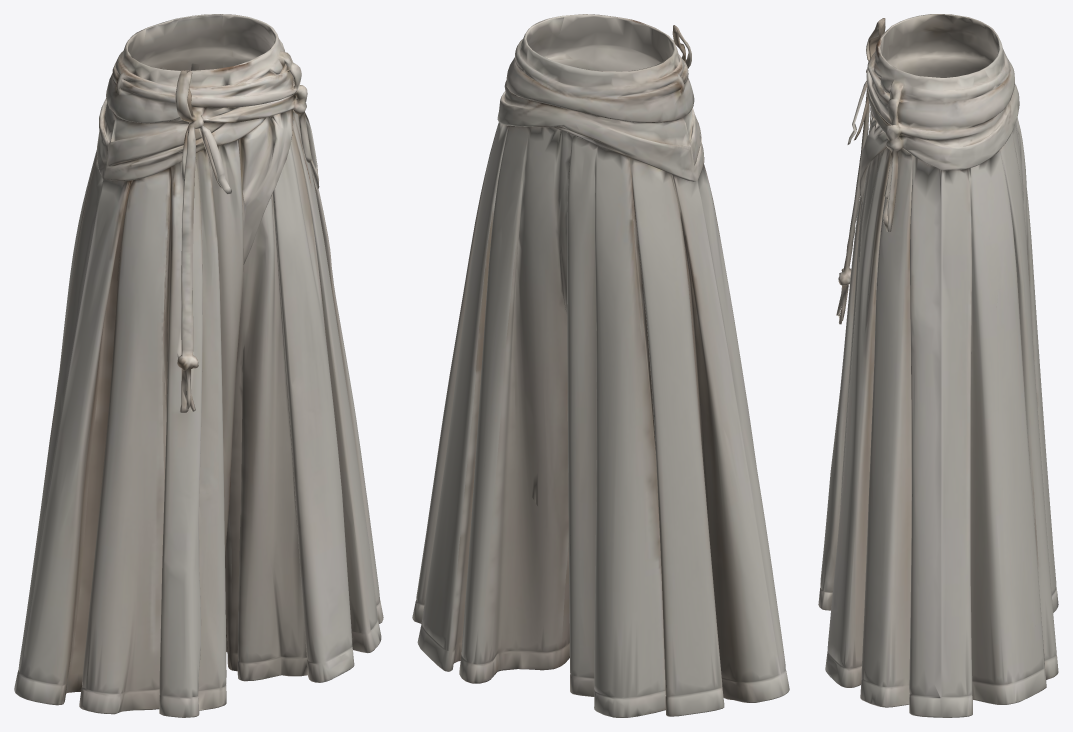
The model's file is hakama.glb.
The picture shows the model from 3 angles, left to right: view 1: azimuth 30°, elevation 25°; view 2: azimuth 150°, elevation 25°; view 3: azimuth 270°, elevation 25°; orthographic projection. The views are drawn at different scales.
Parts seen in each view (by area): view 1: node_0; view 2: node_0; view 3: node_0.
Boxes of the visible parts, left/top/right/bottom form: node_0: left=14, top=14, right=383, bottom=717; node_0: left=412, top=14, right=789, bottom=717; node_0: left=818, top=14, right=1058, bottom=717.
Size of the model in its own units: 0.6407 by 1.06 by 0.3803.
1 material, 1 textured.
